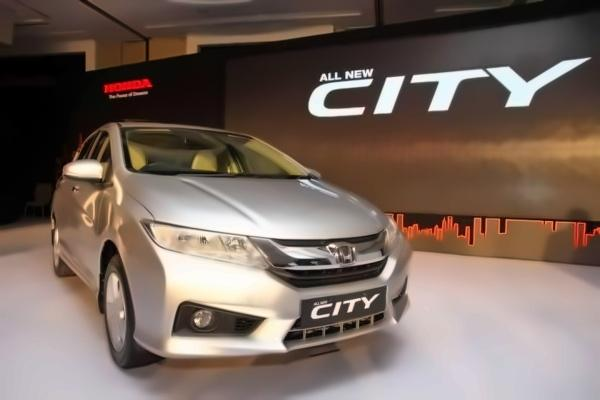Car hood: (125, 166, 395, 241)
Driver-s door - -F-R-: (71, 127, 107, 279)
Fender - -F-R-: (94, 175, 157, 294)
Front bumper: (123, 248, 422, 369)
Headlight - -L-: (374, 211, 406, 262)
Headlight - -R-: (133, 211, 281, 275)
Passenger-s door - -R-R-: (60, 125, 94, 265)
Side bumper - -R-: (55, 239, 103, 307)
Side mirror - -L-: (298, 157, 327, 183)
Side mirror - -R-: (60, 151, 108, 188)
